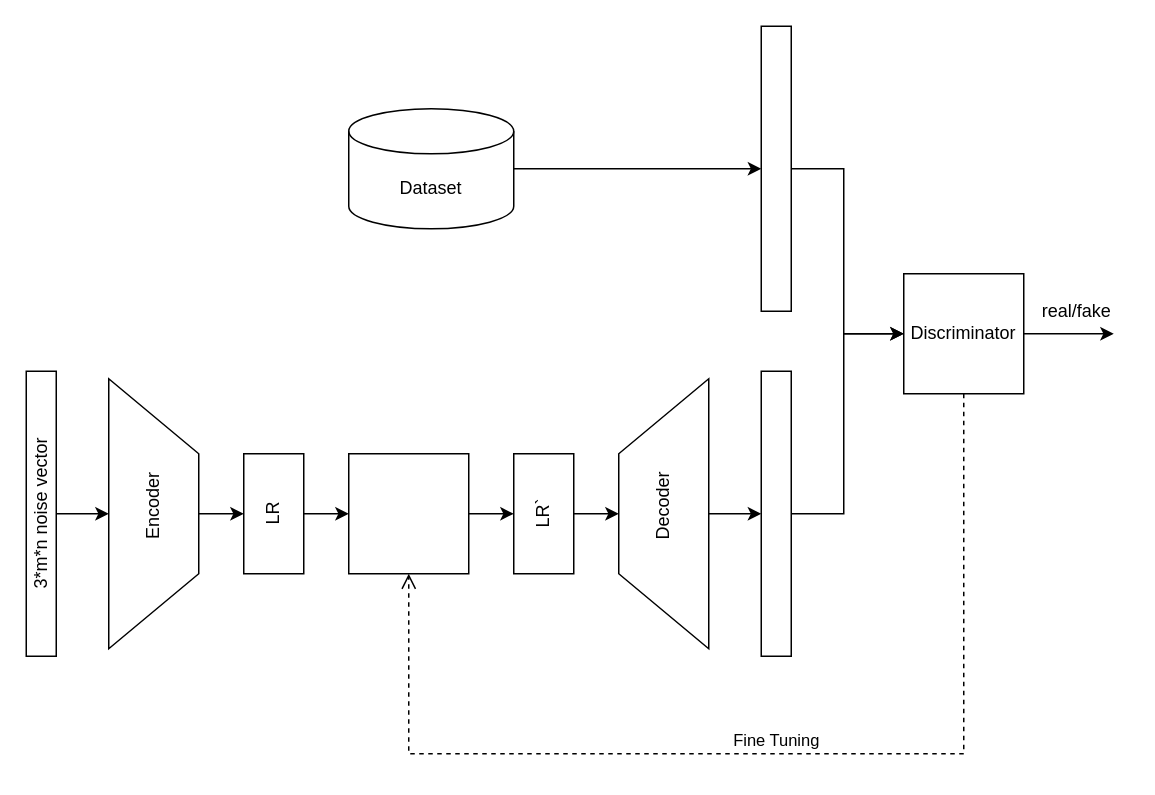
This 1155x795 diagram has some shape labels left out. The centre of each missing label's shape, as x and y in pixels:
3*m*n generated image: point (775, 513)
3*m*n real image: point (775, 168)
Generator: point (408, 513)
